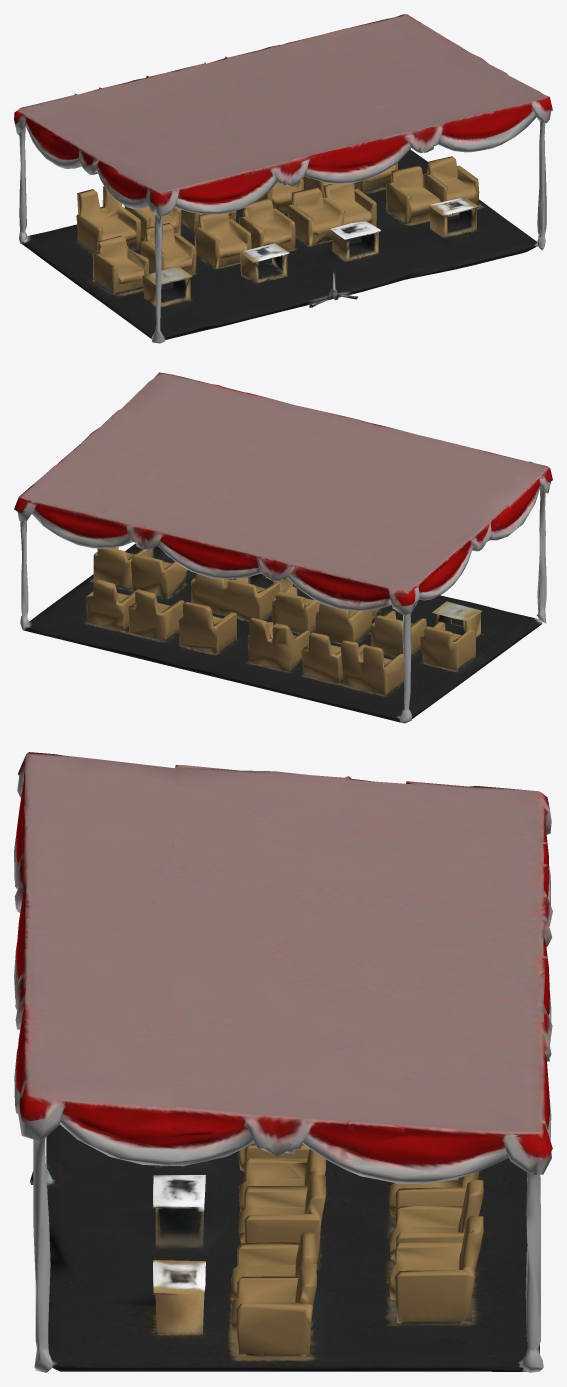
File: tenda_parade_2.glb
3 renders of one model, top to bottom at view 1: azimuth 30°, elevation 25°; view 2: azimuth 150°, elevation 25°; view 3: azimuth 270°, elevation 25°, orthographic. The views are drawn at different scales.
Parts seen in each view (by area): view 1: tripo_node_a1997403-671b-43c4-b328-058fde412c8a; view 2: tripo_node_a1997403-671b-43c4-b328-058fde412c8a; view 3: tripo_node_a1997403-671b-43c4-b328-058fde412c8a.
Boxes of the visible parts, box(x1,y1,x2,y2) form: tripo_node_a1997403-671b-43c4-b328-058fde412c8a: box(14, 14, 552, 343); tripo_node_a1997403-671b-43c4-b328-058fde412c8a: box(14, 372, 552, 723); tripo_node_a1997403-671b-43c4-b328-058fde412c8a: box(14, 752, 552, 1372).
Bounding box in the file's own units: 1 × 0.3787 × 0.646.
Materials: 1 (1 with a texture image).
